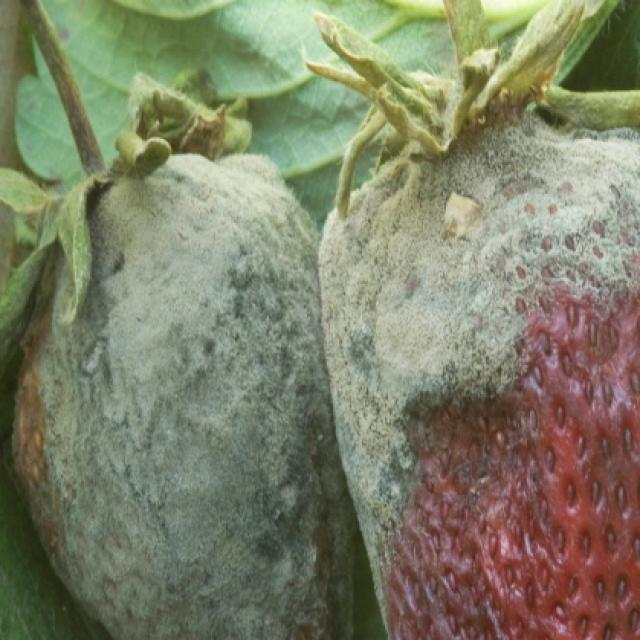Gray Mold: (2, 105, 359, 638), (314, 103, 640, 638)
